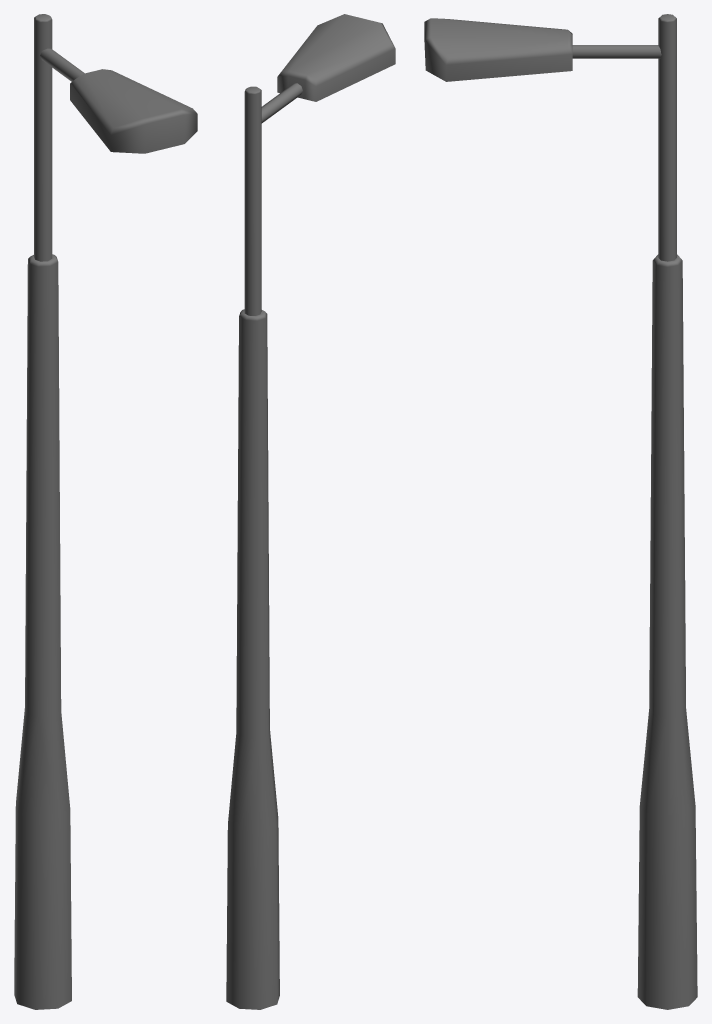
The model's file is street_props_outside_column_1.fbx.
The picture shows the model from 3 angles, left to right: view 1: azimuth 30°, elevation 25°; view 2: azimuth 150°, elevation 25°; view 3: azimuth 270°, elevation 25°; orthographic projection. The views are drawn at different scales.
Visible parts, largest first — view 1: column_1; view 2: column_1; view 3: column_1.
Part boxes in pixels (<box>): column_1: <box>14,14,197,1009</box>; column_1: <box>226,14,395,1009</box>; column_1: <box>424,14,697,1009</box>.
Size of the model in its own units: 52.48 by 566 by 143.
